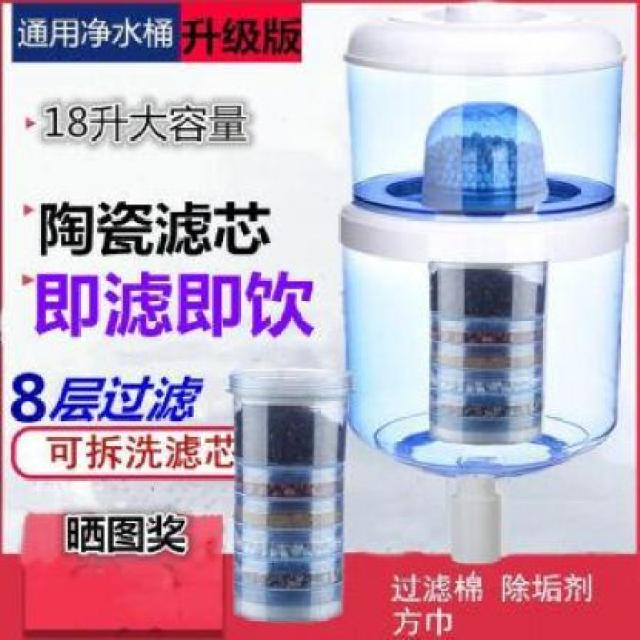coolerbottle: (335, 0, 630, 489)
